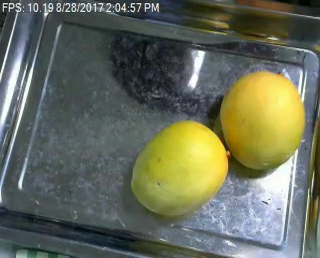Mango: (123, 116, 235, 222), (218, 69, 307, 167)
